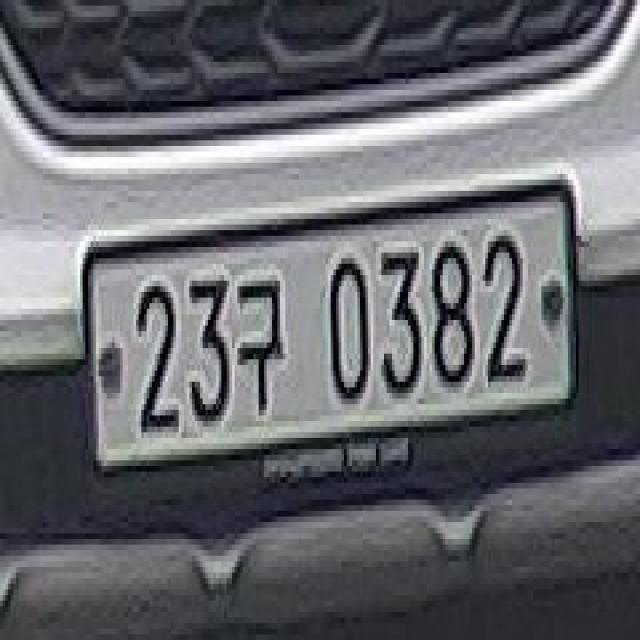0: (319, 247, 378, 414)
2: (477, 216, 531, 401), (129, 274, 186, 437)
3: (183, 266, 245, 431), (381, 238, 429, 406)
8: (428, 228, 482, 402)
gu: (235, 265, 291, 418)
license_plate: (88, 189, 571, 464)
